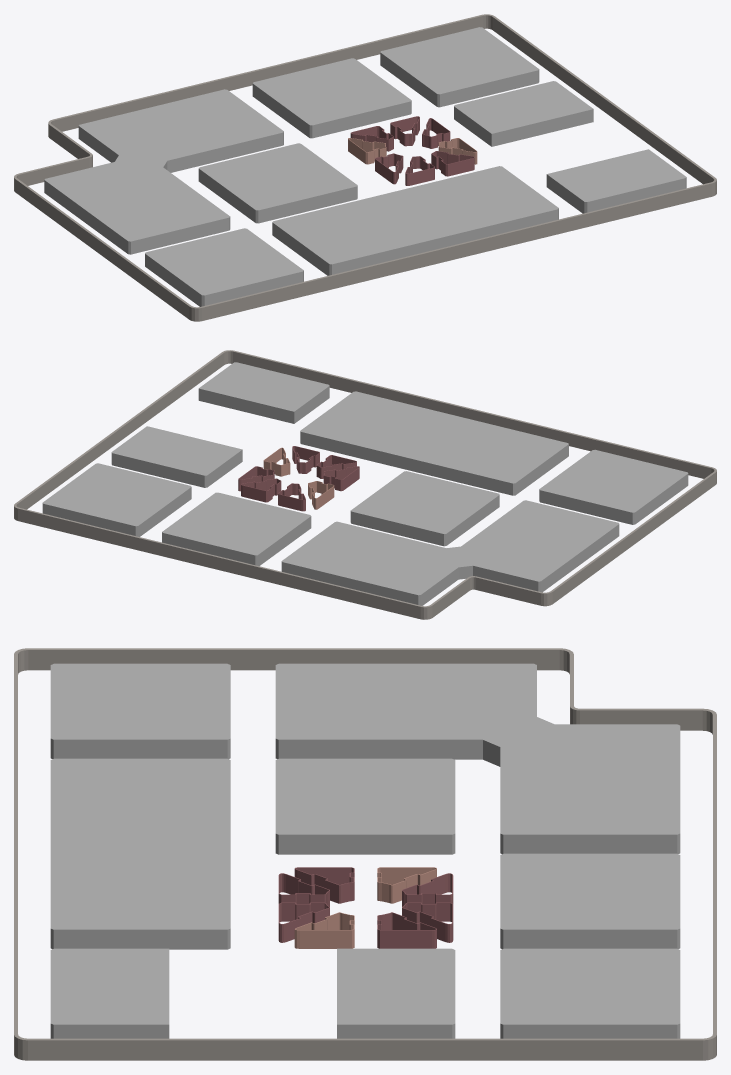
File: Collider_Pueblo.fbx
The picture shows the model from 3 angles, top to bottom: view 1: azimuth 30°, elevation 25°; view 2: azimuth 150°, elevation 25°; view 3: azimuth 270°, elevation 25°; orthographic projection. The views are drawn at different scales.
Visible parts, largest first — view 1: Colliders; view 2: Colliders; view 3: Colliders.
Boxes of the visible parts, x1,y1,x2,y2 form: Colliders: (14,14,716,321); Colliders: (14,350,716,619); Colliders: (14,648,716,1060).
Bounding box in the file's own units: 22700 × 550 × 17200.
